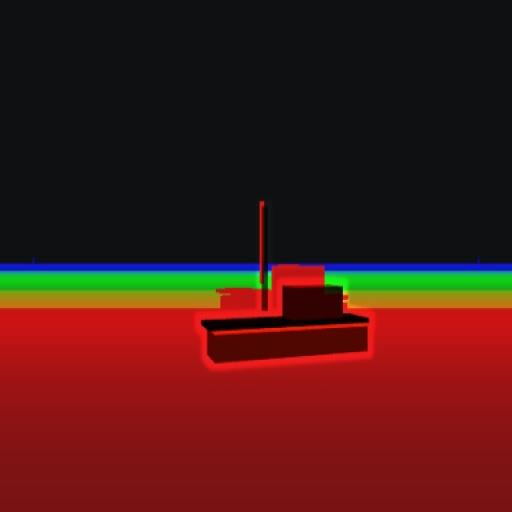vessel: (202, 212, 370, 366)
